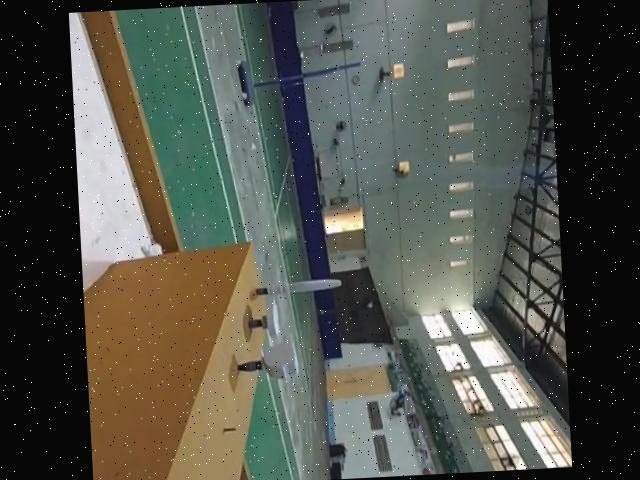Fist: (235, 339, 300, 385)
Hand: (249, 305, 282, 338)
Sph: (250, 277, 339, 302)
